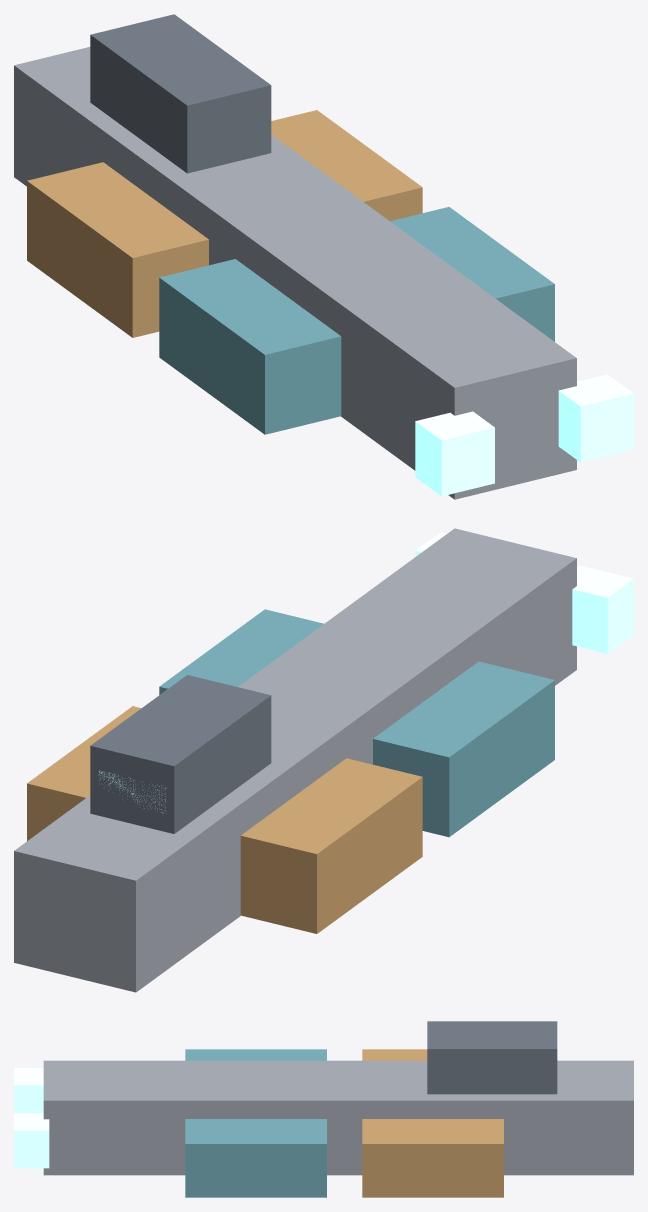
File: cargo-freighter.glb
3 renders of one model, top to bottom at view 1: azimuth 30°, elevation 25°; view 2: azimuth 150°, elevation 25°; view 3: azimuth 270°, elevation 25°, orthographic. The views are drawn at different scales.
Bounding box in the file's own units: 3.8 × 2.25 × 10.5.
